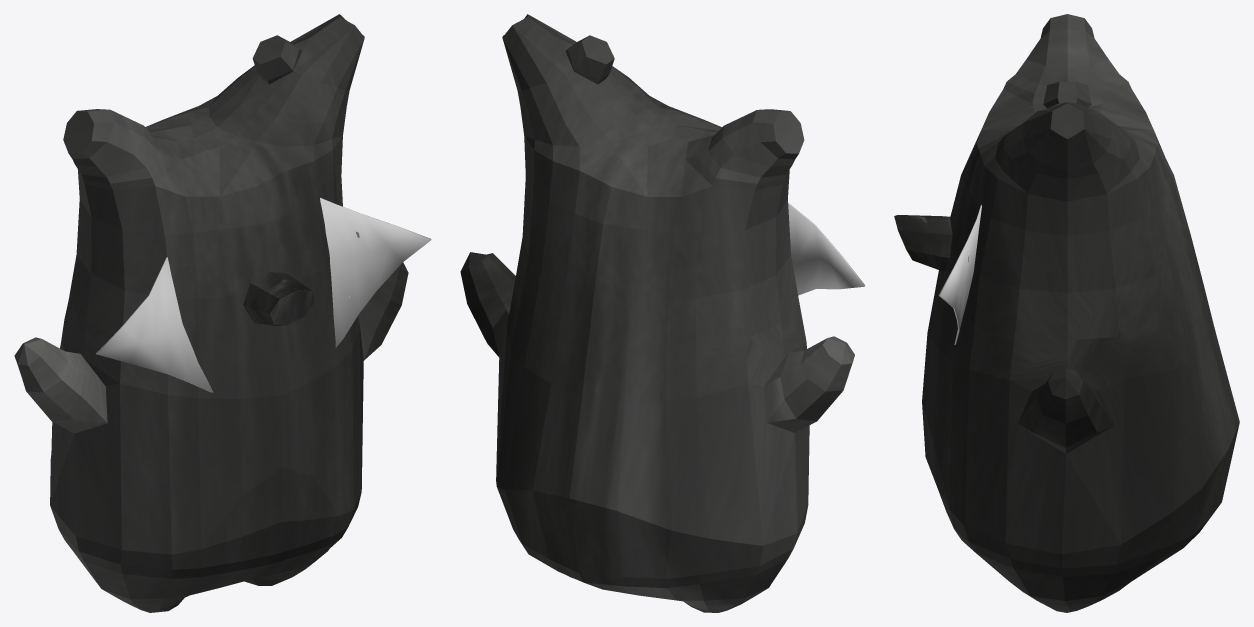
The model's file is frame_0067.obj.
3 renders of one model, left to right at view 1: azimuth 30°, elevation 25°; view 2: azimuth 150°, elevation 25°; view 3: azimuth 270°, elevation 25°, orthographic.
Visible parts, largest first — view 1: korok, leaf, nose; view 2: korok, leaf; view 3: korok, nose, leaf.
Part boxes in pixels (x1,y1,x2,y2): korok: (14,14,408,612); leaf: (96,198,431,392); nose: (243,271,314,325); korok: (460,14,854,612); leaf: (788,202,865,295); korok: (922,14,1239,612); nose: (894,215,952,271); leaf: (938,204,981,344).
Bounding box in the file's own units: 1.63 × 2.2 × 1.27.
